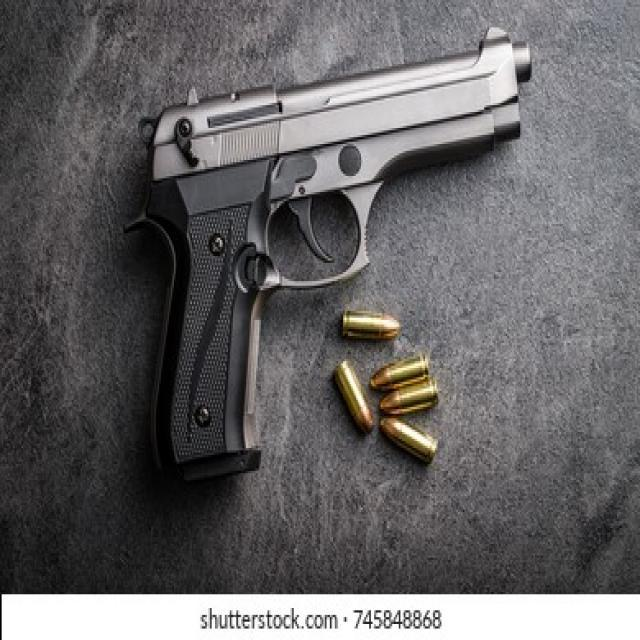pistol: (120, 20, 536, 502)
